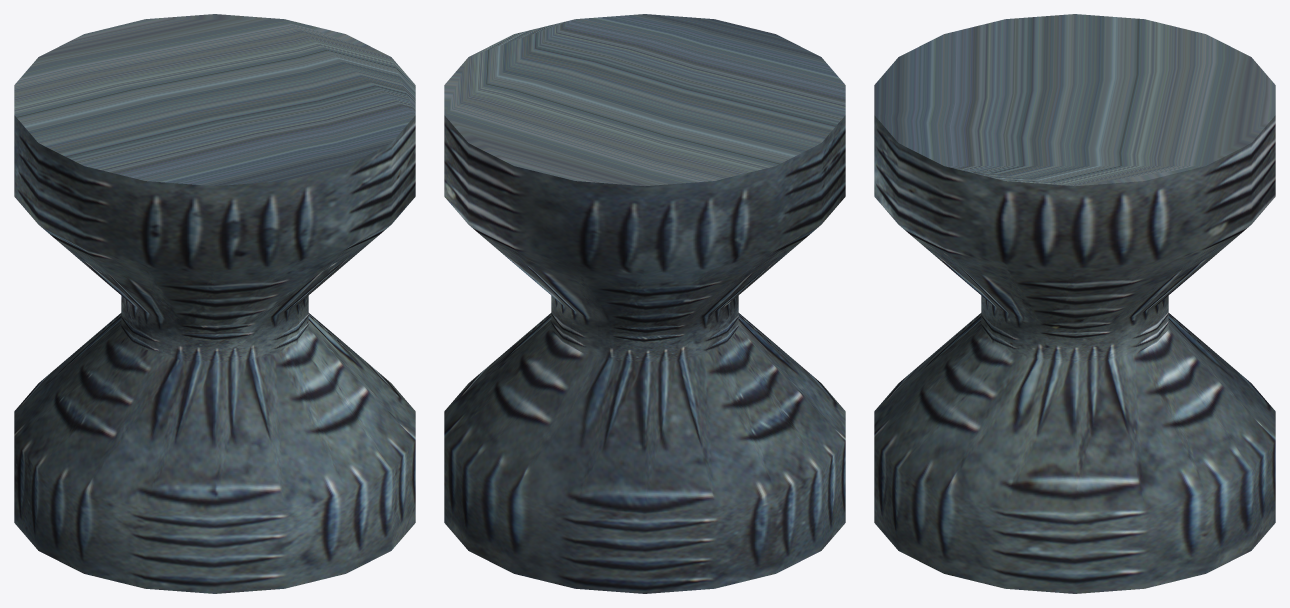
File: my3Dobject2.fbx
3 views of the same model, side by side, from view 1: azimuth 30°, elevation 25°; view 2: azimuth 150°, elevation 25°; view 3: azimuth 270°, elevation 25° (orthographic).
Parts seen in each view (by area): view 1: Cylinder001; view 2: Cylinder001; view 3: Cylinder001.
Part boxes in pixels (x1,y1,x2,y2): Cylinder001: (14, 14, 415, 593); Cylinder001: (444, 14, 845, 593); Cylinder001: (874, 14, 1275, 593).
Size of the model in its own units: 59.35 by 58.45 by 65.53.
1 material, 1 textured.
